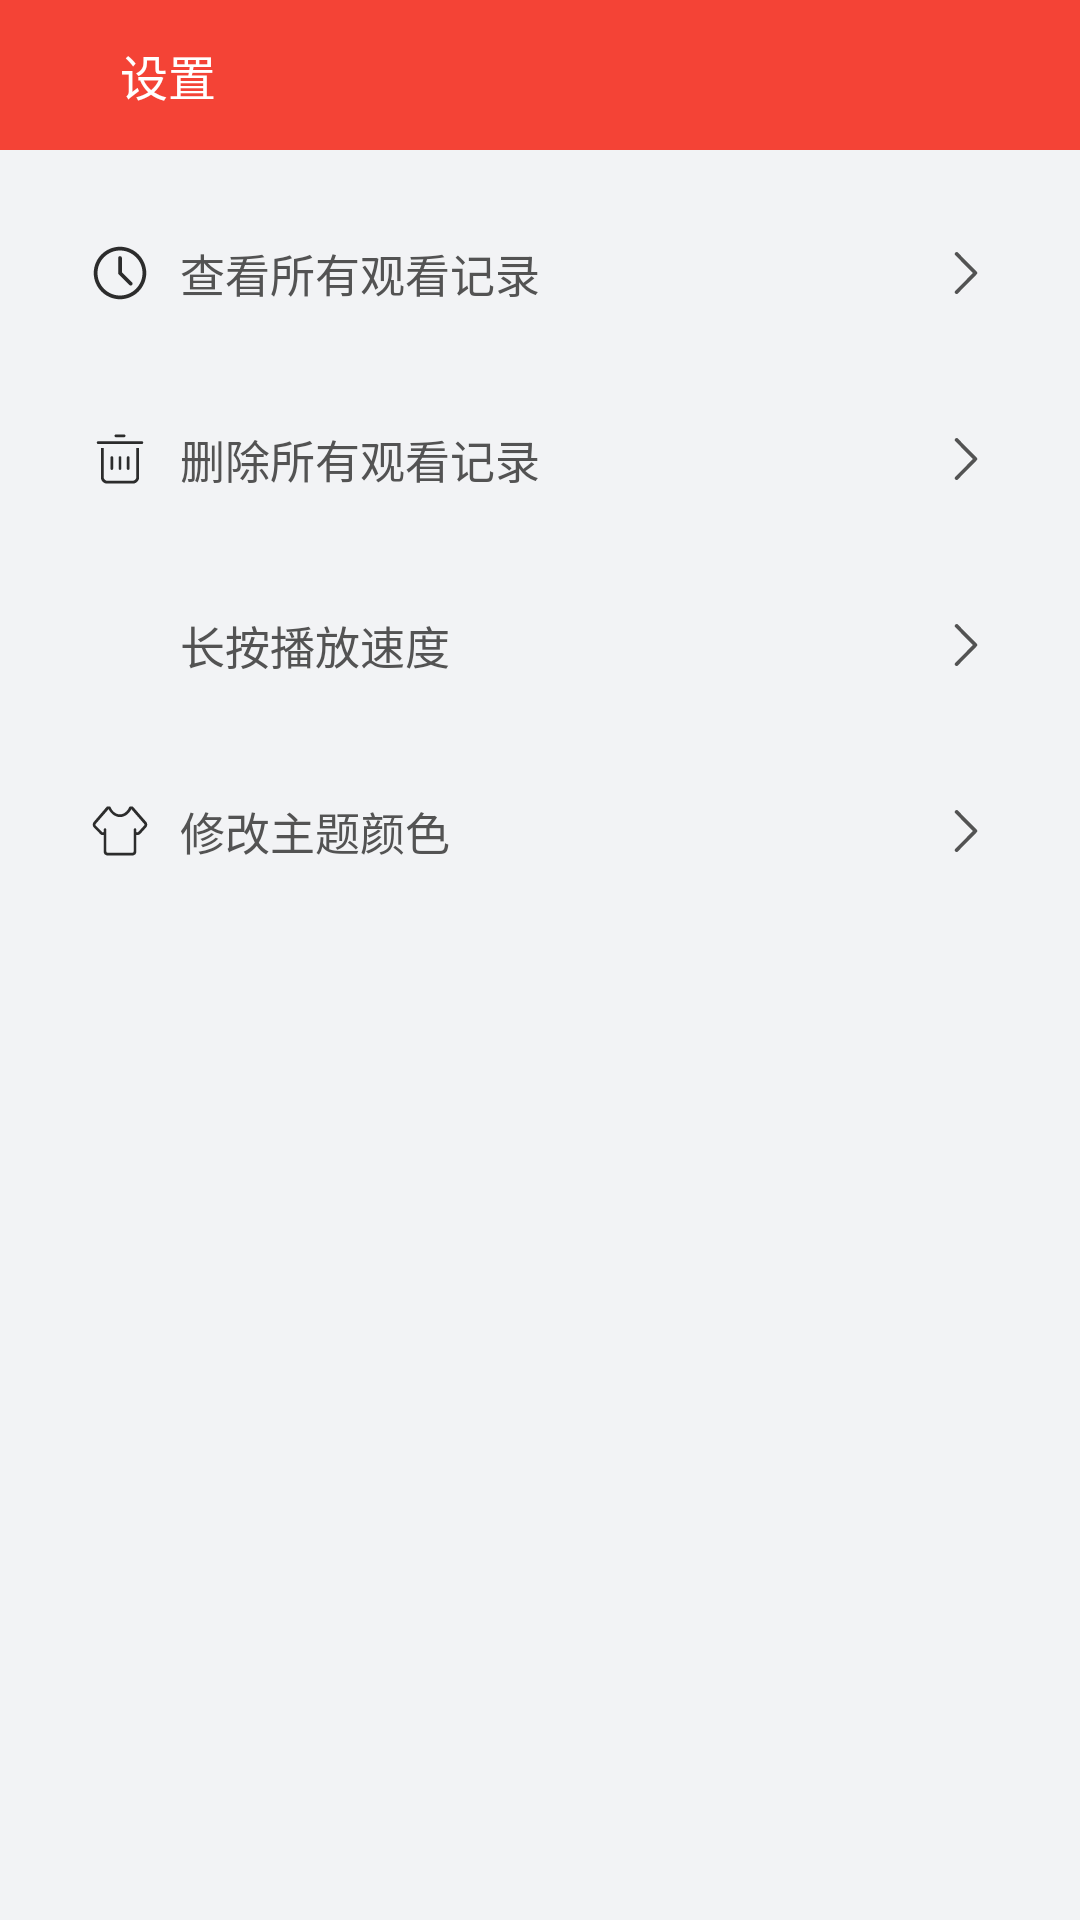

Named icons in this screenshot (1080w x 1920h) and their bounding boxes, region(x1, y1, x2, y2):
gengduo: region(954, 252, 978, 294), region(954, 438, 978, 480), region(954, 624, 978, 666), region(954, 810, 978, 852)
lishijilu: region(93, 246, 147, 300)
